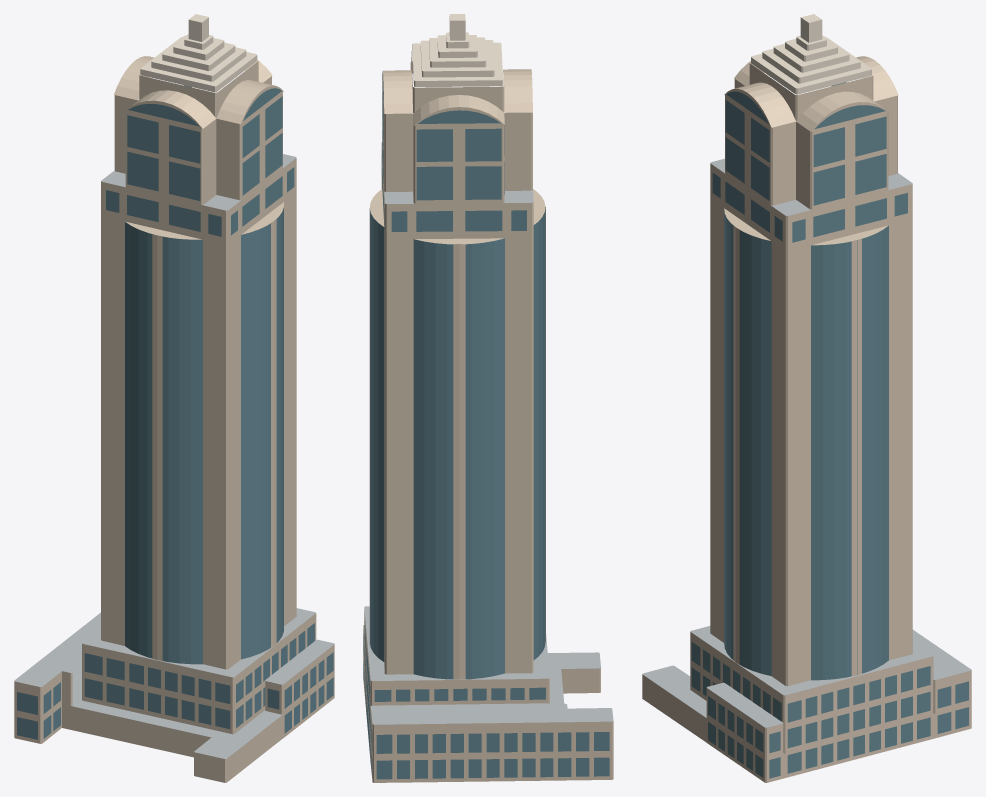
The picture shows the model from 3 angles, left to right: view 1: azimuth 30°, elevation 25°; view 2: azimuth 150°, elevation 25°; view 3: azimuth 270°, elevation 25°; orthographic projection. The views are drawn at different scales.
Parts seen in each view (by area): view 1: 1201-third-avenue; view 2: 1201-third-avenue; view 3: 1201-third-avenue.
Boxes of the visible parts, x1=… form: 1201-third-avenue: x1=14, y1=14, x2=334, y2=782; 1201-third-avenue: x1=363, y1=14, x2=613, y2=782; 1201-third-avenue: x1=642, y1=14, x2=971, y2=782.
Bounding box in the file's own units: 98.63 × 231 × 97.44.
